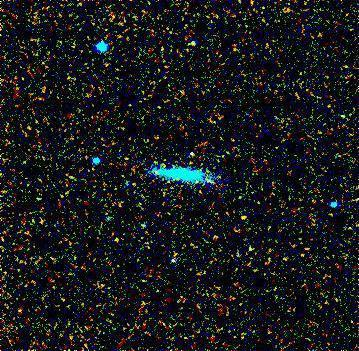star: (227, 203, 257, 233)
